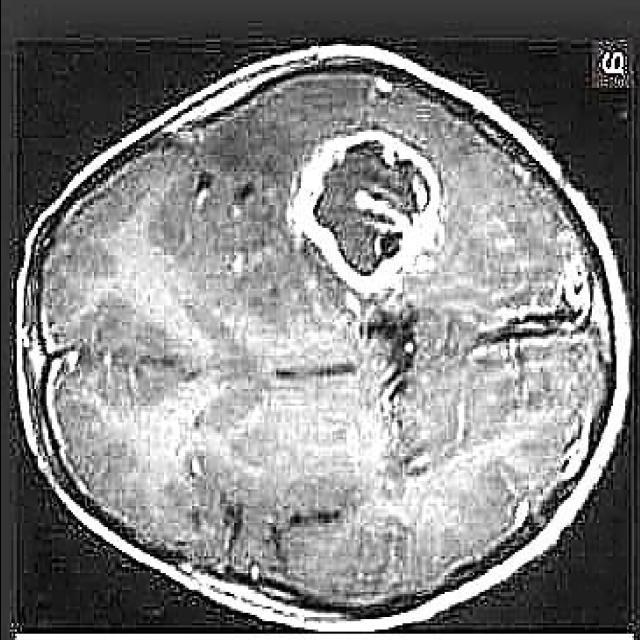tumor: (288, 130, 440, 297)
